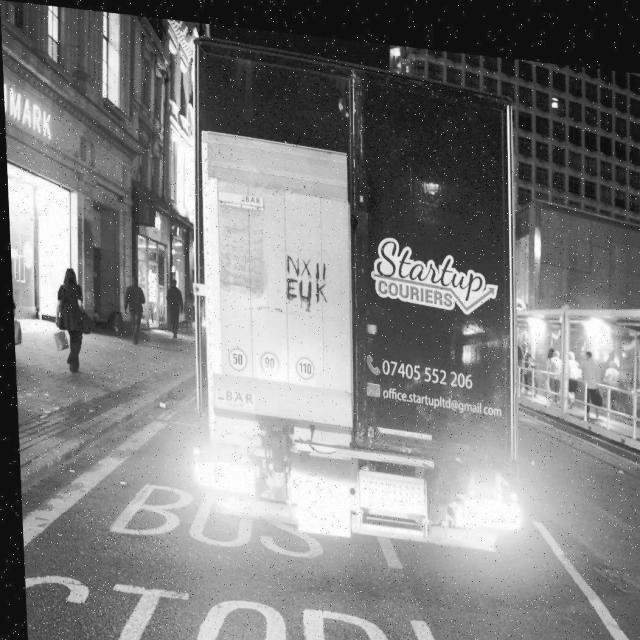Truck: (174, 32, 531, 548)
